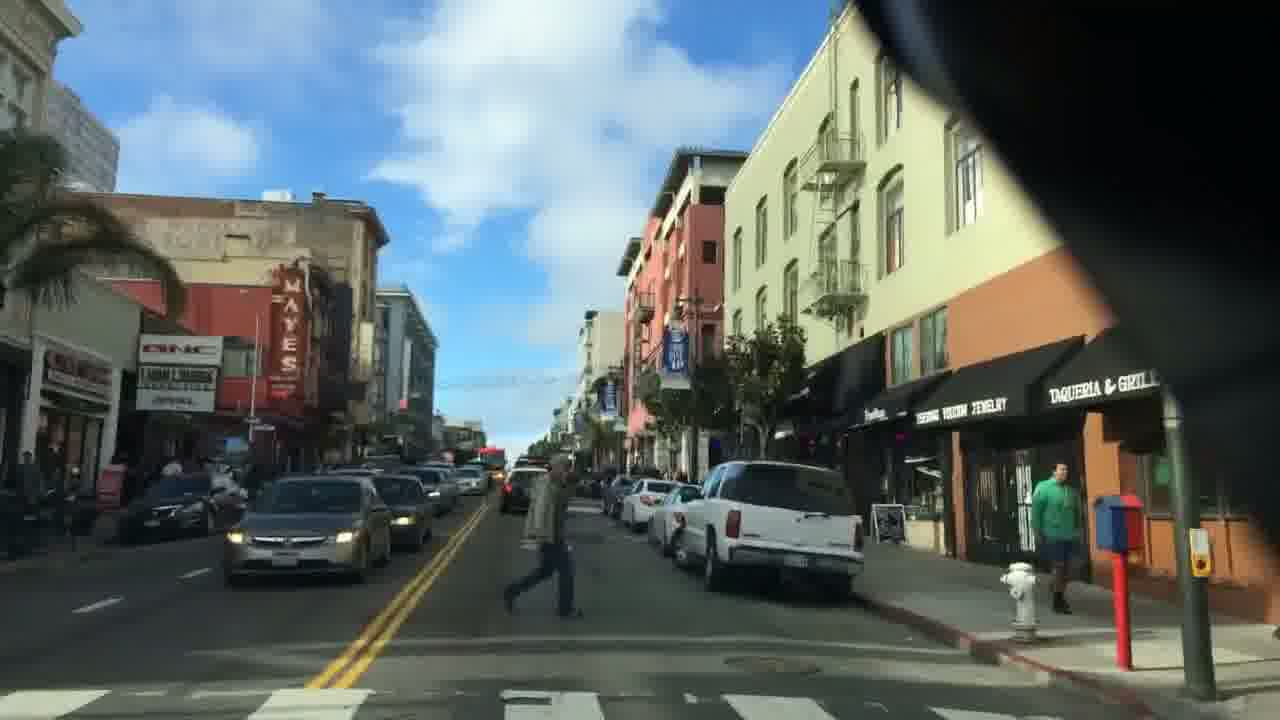car: (669, 458, 866, 605), (221, 474, 392, 587), (116, 470, 241, 547), (367, 473, 433, 552), (646, 482, 702, 557), (615, 476, 680, 532), (501, 467, 548, 514), (449, 465, 489, 496)
pedestrian: (500, 451, 585, 622), (1028, 459, 1083, 616)
